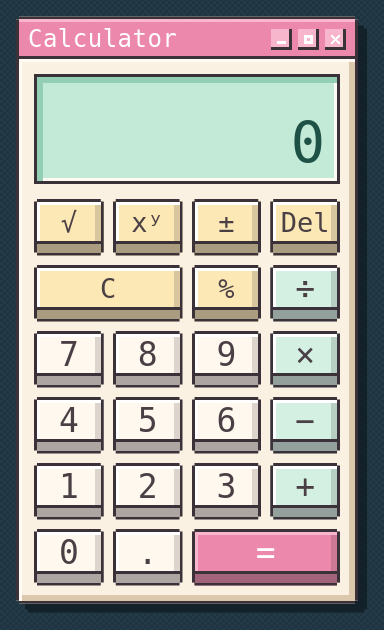
Test: Calculator › calculates through the API and formats the result to fit
Click the button "1" at (69, 491), box top-left (34, 463), bottom-right (104, 520)
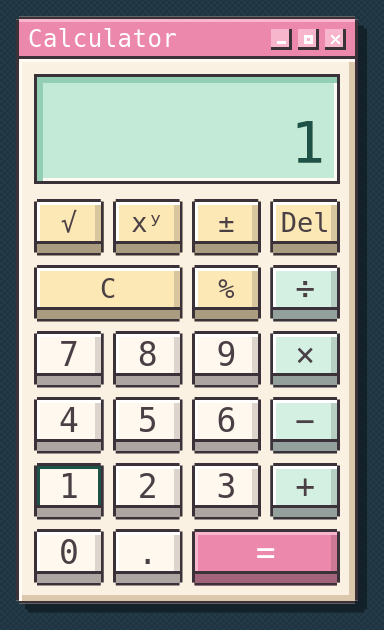
Click the button "0" at (69, 557), box top-left (34, 529), bottom-right (104, 586)
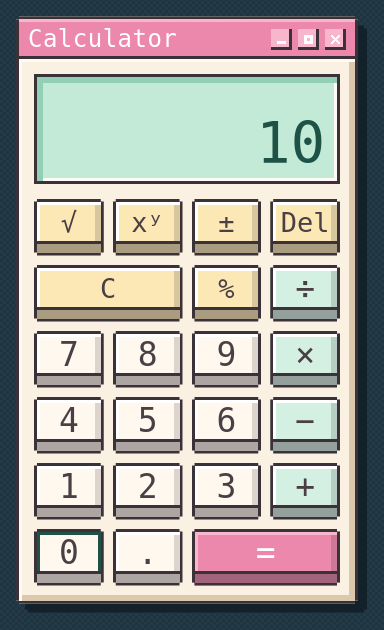
Click the button "0" at (69, 557), box top-left (34, 529), bottom-right (104, 586)
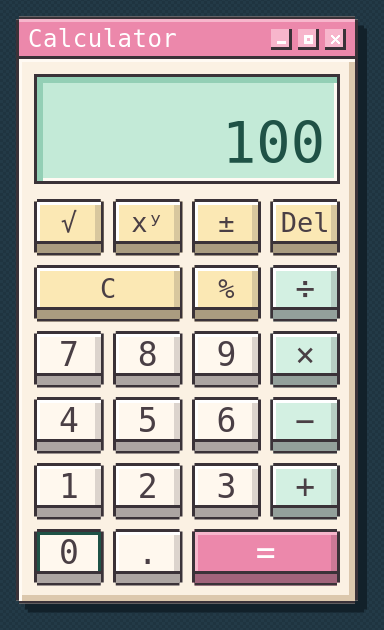
Click the button named "divide" at (305, 293), box top-left (270, 265), bottom-right (340, 322)
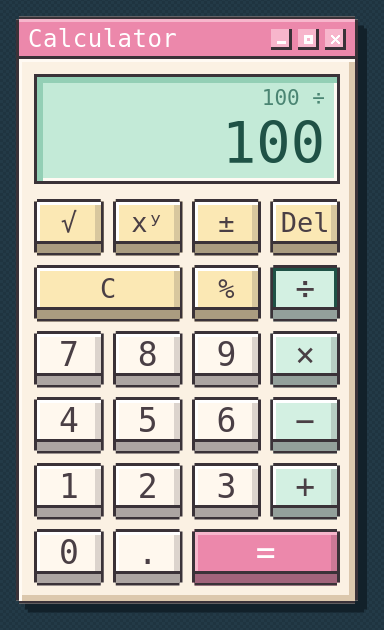
Click the button "3" at (226, 491), box top-left (192, 463), bottom-right (261, 520)
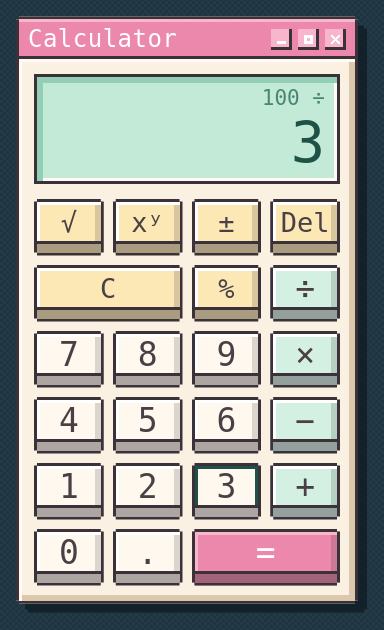
Click the button named "equals" at (266, 557), box top-left (192, 529), bottom-right (340, 586)
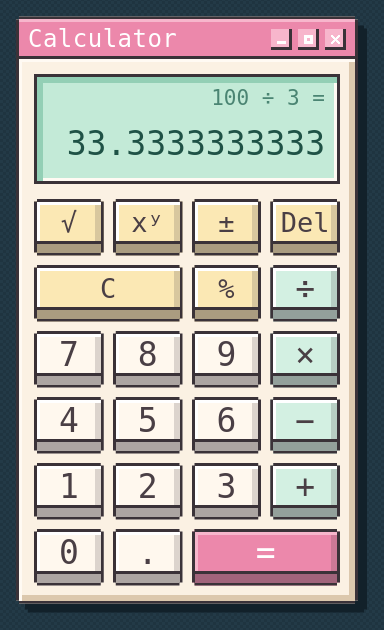
Check: the text "33.3333333333" is shown, box top-left (67, 115), bottom-right (325, 172)
Check: the text with test id "expression" reads "100 ÷ 3 =", box top-left (211, 86), bottom-right (325, 110)
